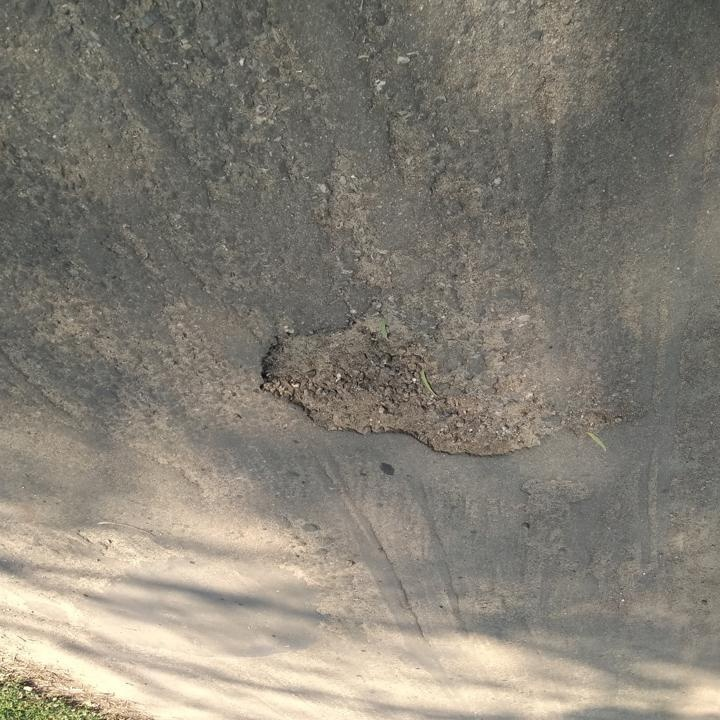pothole: (255, 302, 567, 462)
